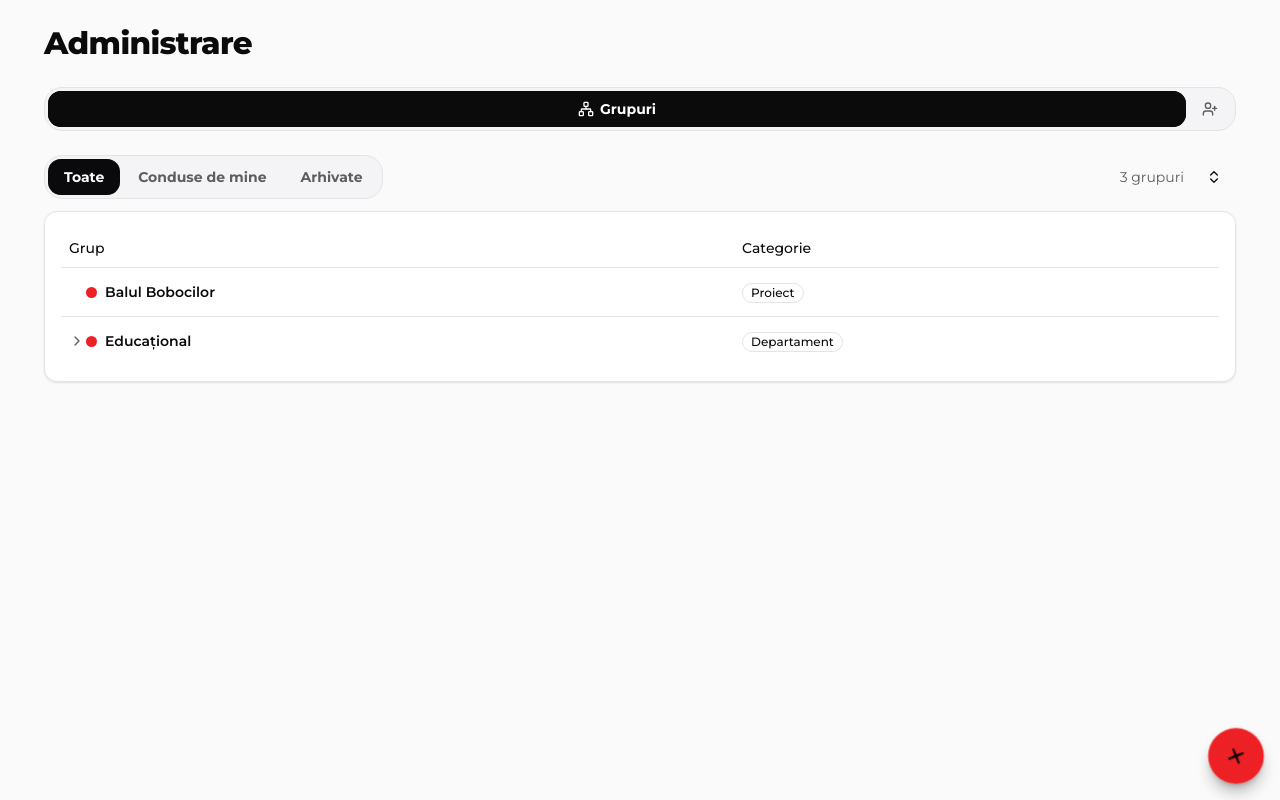
Scenario: offers BC who leads a Group "Toate | Conduse de mine", and narrows the tree by URL (#921)
Expected: the link "Balul Bobocilor" is shown, [105, 283, 215, 301]
Click the button "Conduse de mine" at {"x": 202, "y": 177}, box [122, 159, 283, 195]
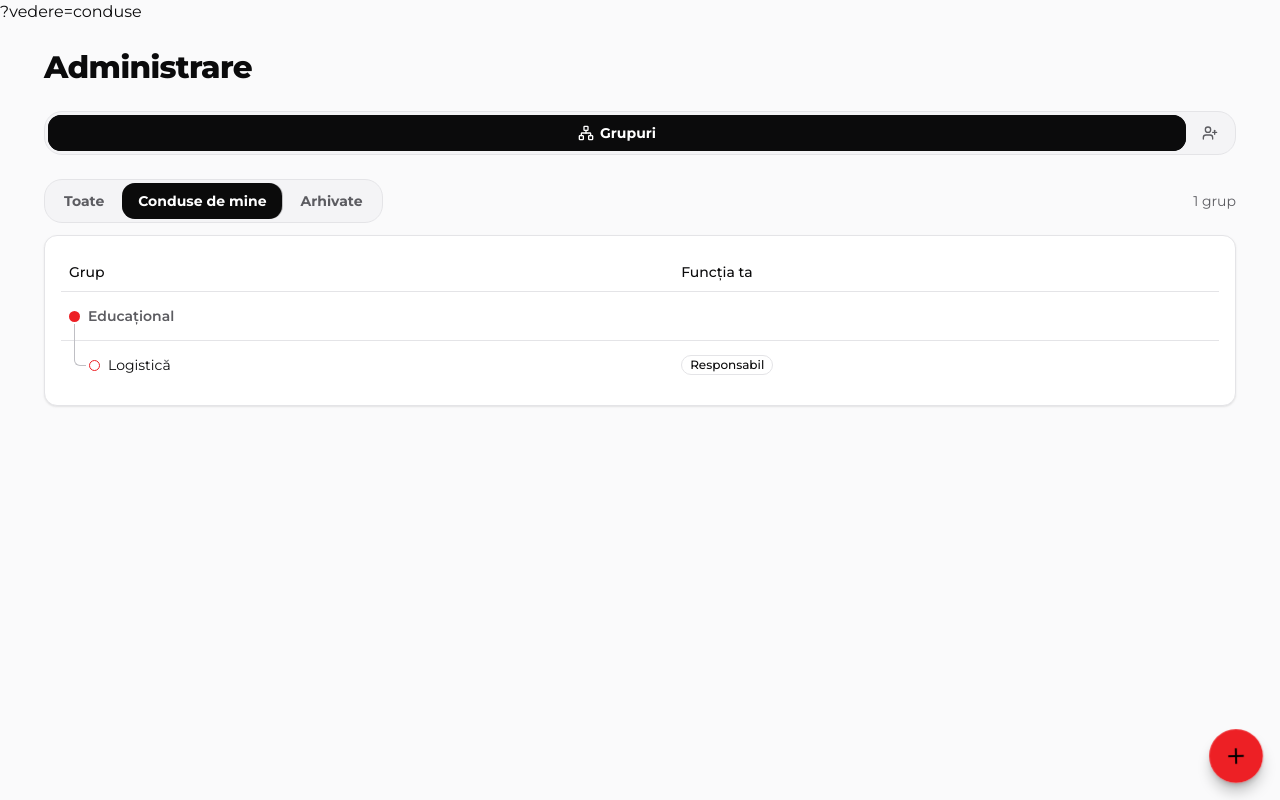
Expected: the text with test id "location" reads "?vedere=conduse", [0, 2, 142, 21]
Expected: the element named "Grupurile mele" is shown, [44, 179, 1236, 406]
Expected: the link "Balul Bobocilor" is gone
Click the button "Toate" at {"x": 84, "y": 201}, box [48, 183, 120, 219]
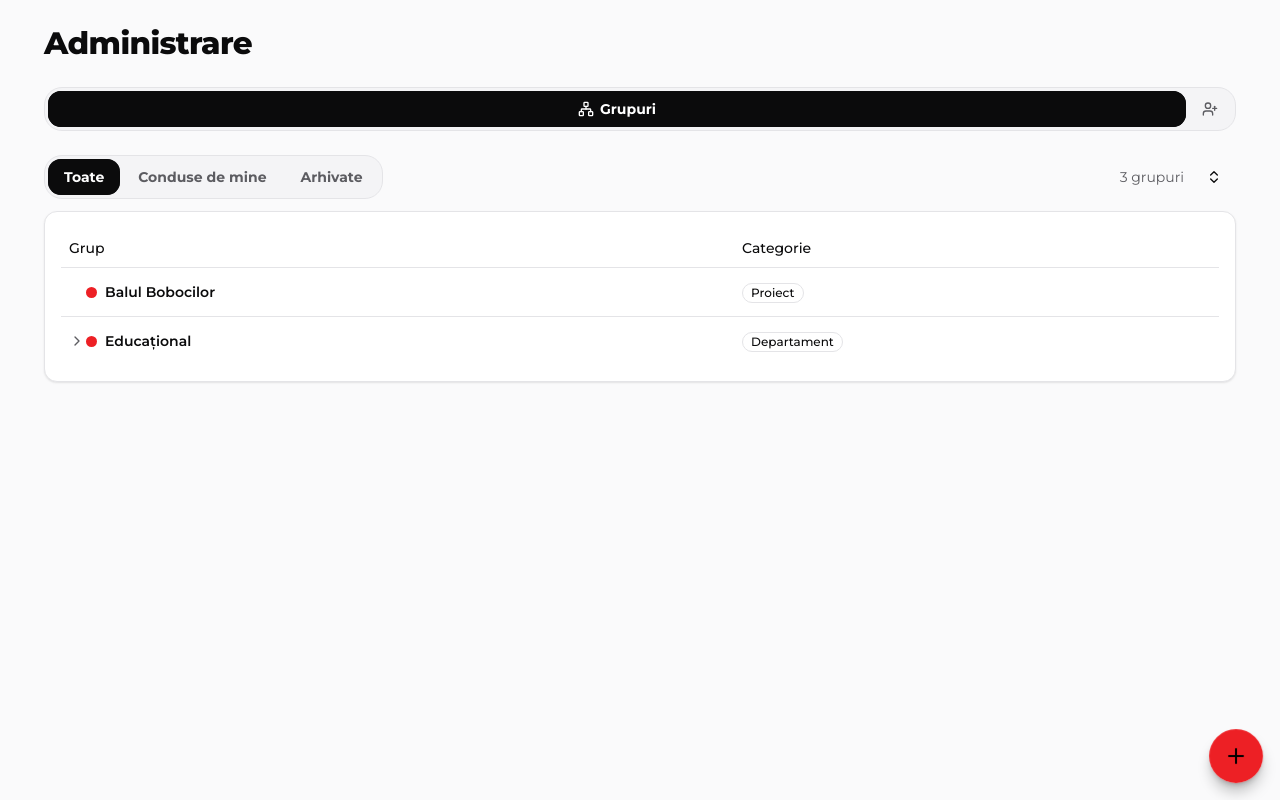
Expected: the link "Balul Bobocilor" is shown, [105, 283, 215, 301]
